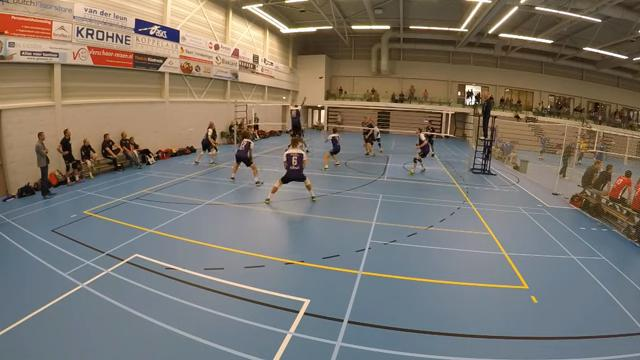Block: (282, 90, 310, 155)
Player: (265, 137, 315, 203), (231, 131, 262, 185), (409, 128, 430, 175), (195, 121, 217, 164), (323, 127, 340, 170), (363, 118, 374, 155), (425, 121, 435, 156), (361, 117, 368, 155), (373, 124, 382, 152)
ball: (319, 74, 324, 80)
